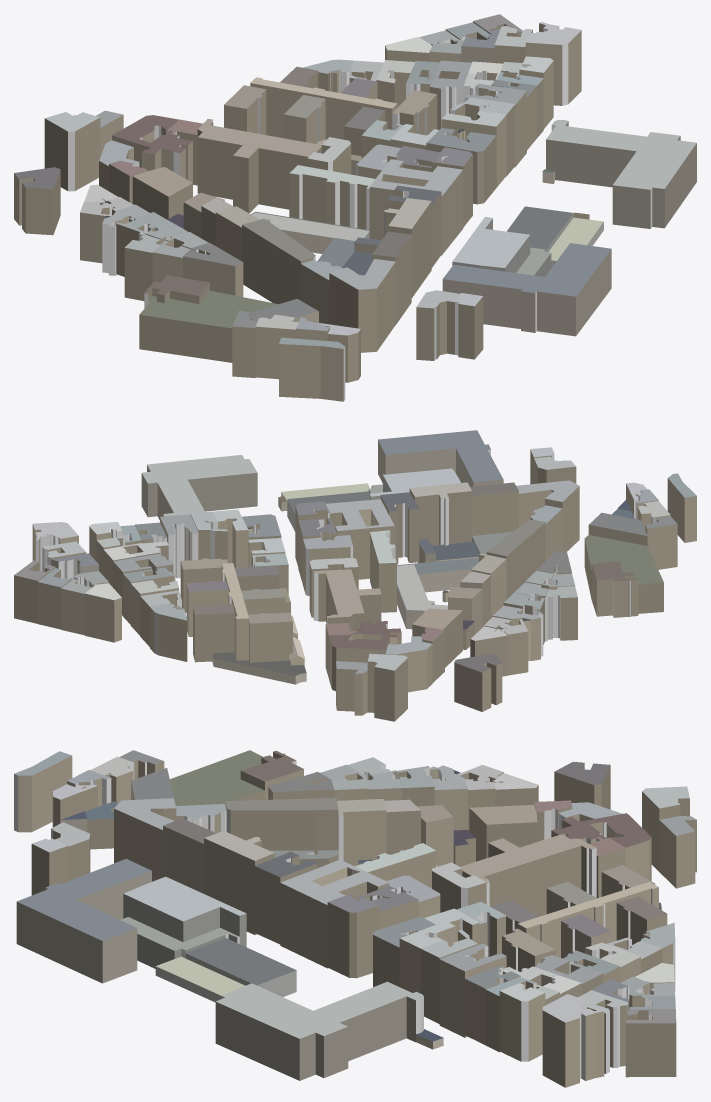
The picture shows the model from 3 angles, top to bottom: view 1: azimuth 30°, elevation 25°; view 2: azimuth 150°, elevation 25°; view 3: azimuth 270°, elevation 25°; orthographic projection. The views are drawn at different scales.
Visible parts, largest first — view 1: tuile; view 2: tuile; view 3: tuile.
Part boxes in pixels (<box>): tuile: <box>14,14,696,401</box>; tuile: <box>14,430,696,721</box>; tuile: <box>14,750,696,1087</box>.
Size of the model in its own units: 285 by 36.97 by 268.
